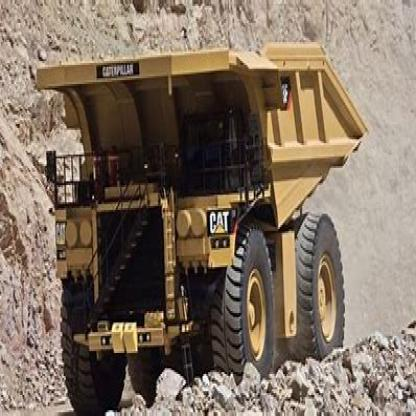dump_truck: (32, 44, 371, 406)
